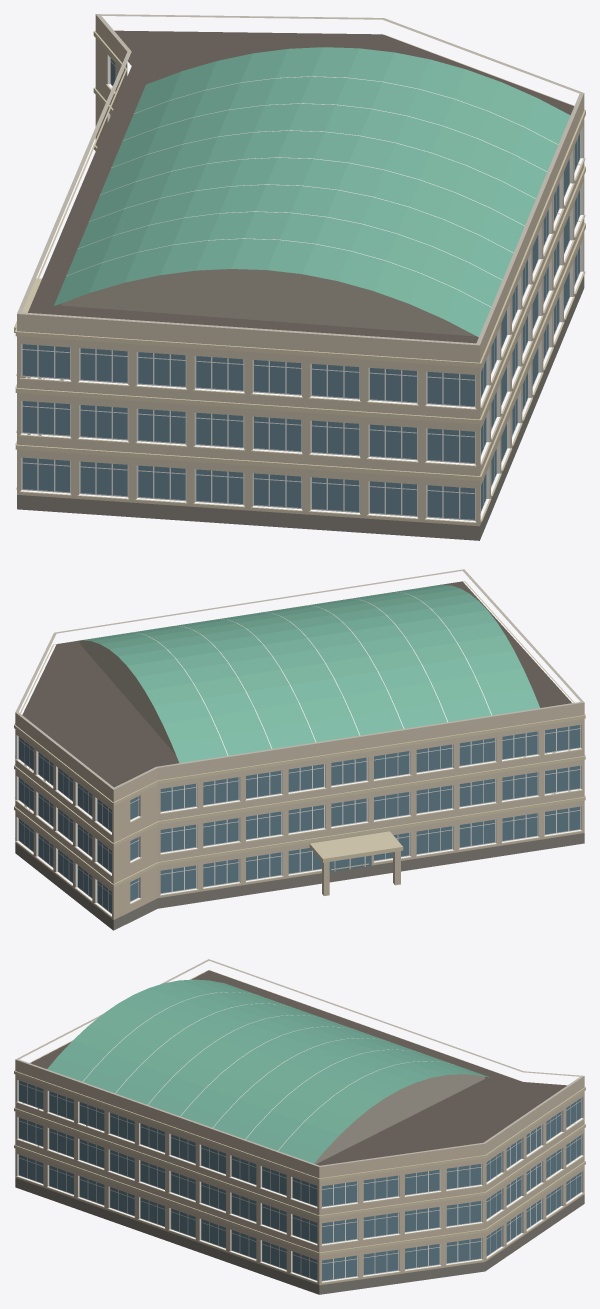
The picture shows the model from 3 angles, top to bottom: view 1: azimuth 30°, elevation 25°; view 2: azimuth 150°, elevation 25°; view 3: azimuth 270°, elevation 25°; orthographic projection. The views are drawn at different scales.
Visible parts, largest first — view 1: wing2__roof-metal, wing2__brick, wing2__glass, wing2__frame, wing2__trim-concrete, wing2__roof, wing2__wall-plaster, wing2__base-stone, wing2__parapet-concrete; view 2: wing2__roof-metal, wing2__brick, wing2__glass, wing2__roof, wing2__trim-concrete, wing2__frame, wing2__base-stone, wing2__parapet-concrete, wing2__wall-plaster; view 3: wing2__roof-metal, wing2__brick, wing2__glass, wing2__roof, wing2__frame, wing2__trim-concrete, wing2__base-stone, wing2__wall-plaster, wing2__parapet-concrete.
Boxes of the visible parts, box(x1,y1,x2,y2) form: wing2__roof-metal: box(54, 47, 570, 337); wing2__brick: box(17, 14, 584, 526); wing2__glass: box(22, 59, 579, 519); wing2__frame: box(21, 55, 583, 520); wing2__trim-concrete: box(14, 30, 585, 523); wing2__roof: box(28, 30, 574, 343); wing2__wall-plaster: box(61, 269, 474, 336); wing2__base-stone: box(17, 275, 584, 540); wing2__parapet-concrete: box(17, 14, 583, 345); wing2__roof-metal: box(77, 584, 539, 763); wing2__brick: box(15, 702, 584, 919); wing2__glass: box(19, 725, 580, 913); wing2__roof: box(22, 581, 571, 787); wing2__trim-concrete: box(14, 581, 585, 917); wing2__frame: box(16, 592, 581, 913); wing2__base-stone: box(15, 833, 584, 930); wing2__parapet-concrete: box(15, 569, 584, 789); wing2__wall-plaster: box(79, 640, 175, 754); wing2__roof-metal: box(47, 979, 490, 1163); wing2__brick: box(15, 1059, 584, 1285); wing2__glass: box(19, 1080, 581, 1280); wing2__roof: box(30, 970, 566, 1165); wing2__frame: box(17, 992, 583, 1281); wing2__trim-concrete: box(14, 970, 585, 1283); wing2__base-stone: box(15, 1178, 584, 1294); wing2__wall-plaster: box(314, 1074, 484, 1164); wing2__parapet-concrete: box(15, 959, 583, 1166).
Bounding box in the file's own units: 44.72 × 15.33 × 51.72.
